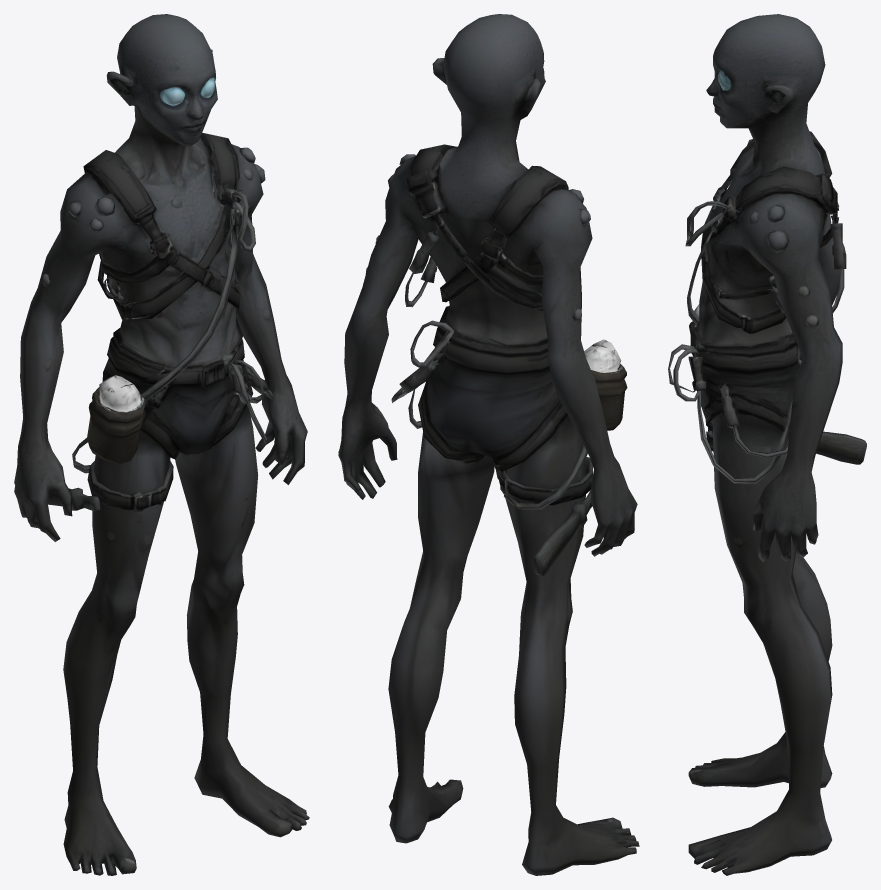
The picture shows the model from 3 angles, left to right: view 1: azimuth 30°, elevation 25°; view 2: azimuth 150°, elevation 25°; view 3: azimuth 270°, elevation 25°; orthographic projection. The views are drawn at different scales.
Parts seen in each view (by area): view 1: tripo_node_cc749df9-845f-49bf-bfc0-bd0c1f899714; view 2: tripo_node_cc749df9-845f-49bf-bfc0-bd0c1f899714; view 3: tripo_node_cc749df9-845f-49bf-bfc0-bd0c1f899714.
Part boxes in pixels (<box>): tripo_node_cc749df9-845f-49bf-bfc0-bd0c1f899714: <box>14,14,309,875</box>; tripo_node_cc749df9-845f-49bf-bfc0-bd0c1f899714: <box>338,14,639,875</box>; tripo_node_cc749df9-845f-49bf-bfc0-bd0c1f899714: <box>668,14,866,875</box>.
Size of the model in its own units: 0.3652 by 0.998 by 0.2246.
1 material, 1 textured.
